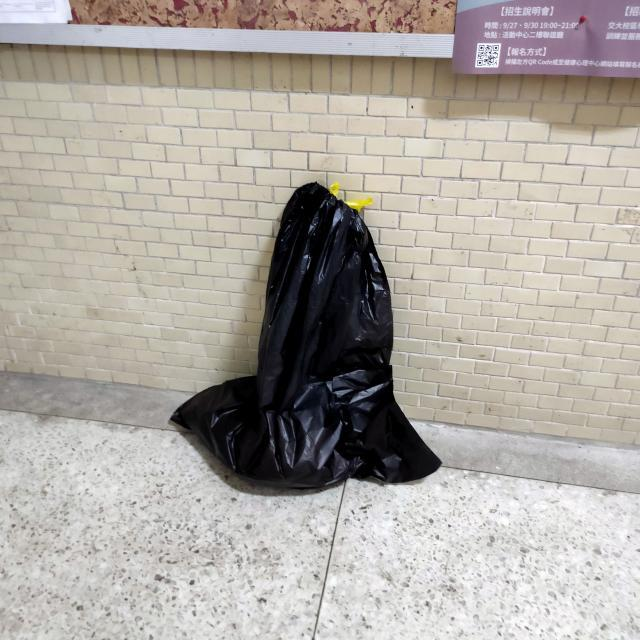Vinyl: (154, 155, 452, 498)
